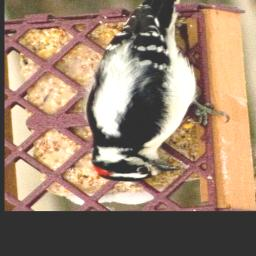Woodpecker: (88, 0, 229, 181)
